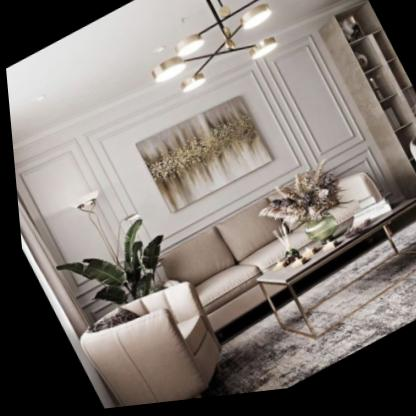Futec frame: (3, 11, 377, 312)
